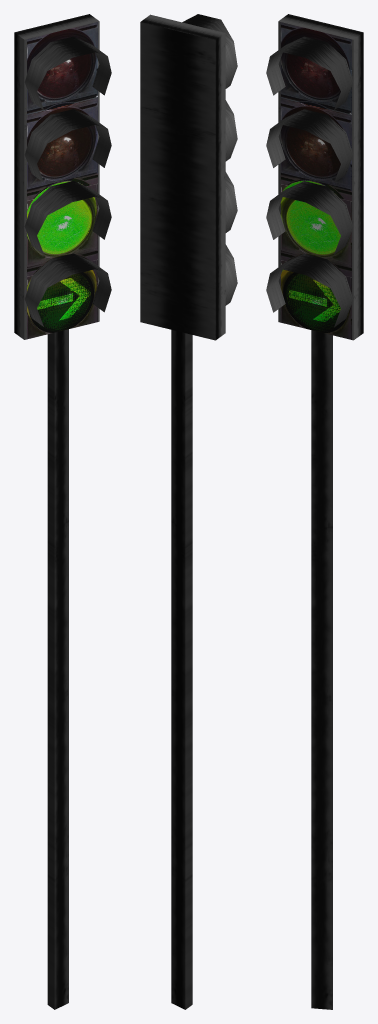
File: trafficSignal4Way.obj
3 renders of one model, left to right at view 1: azimuth 30°, elevation 25°; view 2: azimuth 150°, elevation 25°; view 3: azimuth 330°, elevation 25°, orthographic.
Parts seen in each view (by area): view 1: pasted__trafficSignal4Way group; view 2: pasted__trafficSignal4Way group; view 3: pasted__trafficSignal4Way group.
Part boxes in pixels (box(x1,y1,x2,y2)): pasted__trafficSignal4Way group: box(14, 14, 111, 1009); pasted__trafficSignal4Way group: box(140, 14, 237, 1009); pasted__trafficSignal4Way group: box(266, 14, 363, 1009).
Size of the model in its own units: 0.2787 by 3.46 by 0.2031.
Materials: 1 (1 with a texture image).
